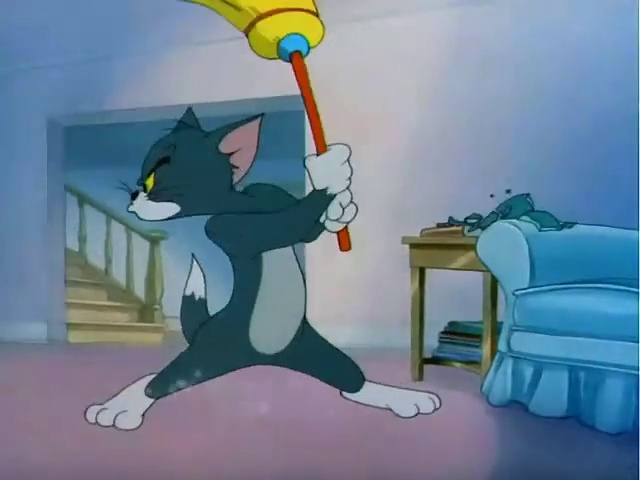tom: (100, 37, 456, 442)
